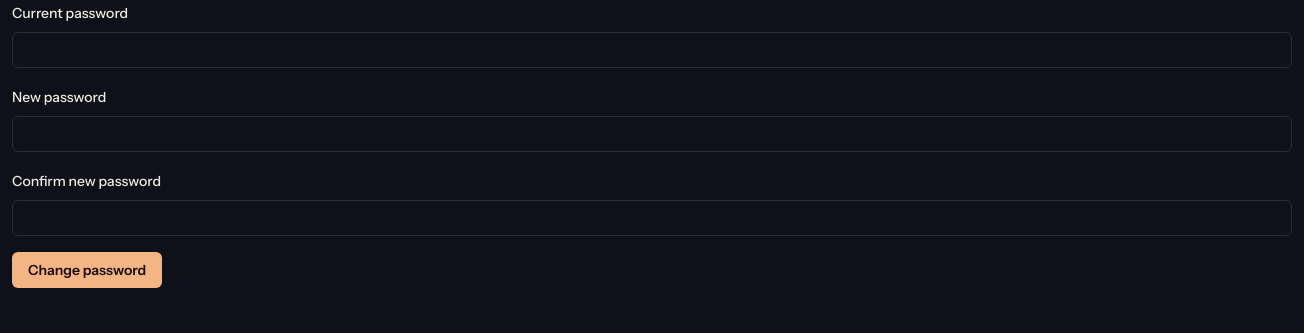
ChangePasswordForm › refuses to submit without the current password
The image size is (1304, 333).
Type "longenough1" into the password field labelled "New password". click: (652, 134)
box: [12,116,1292,152]
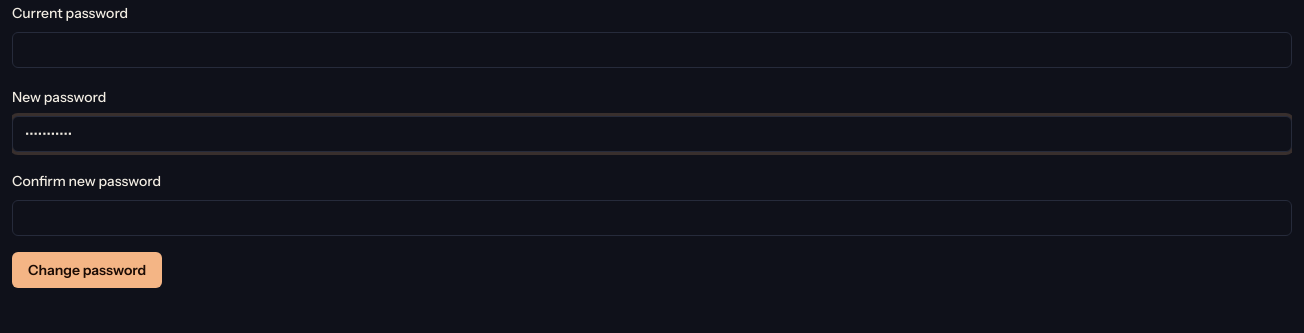
Type "longenough1" into the password field labelled "Confirm new password". click: (652, 218)
box: [12,200,1292,236]
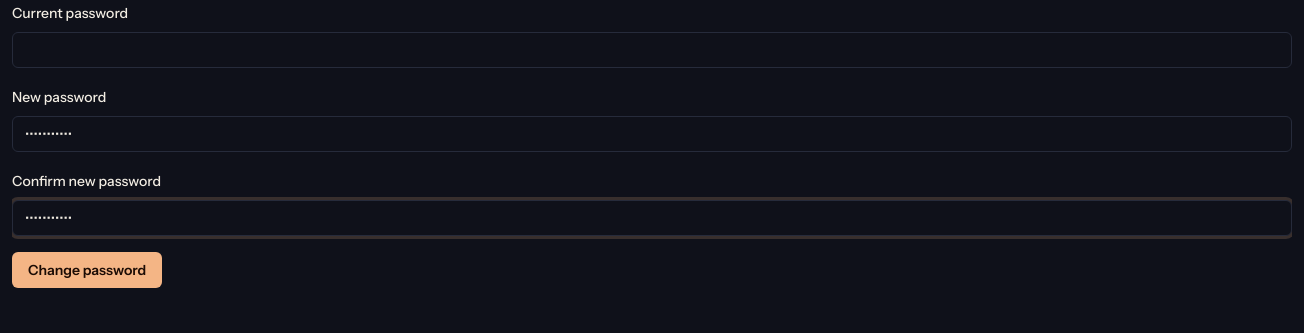
Click the button "Change password". click: (87, 270)
box: [12,252,162,288]
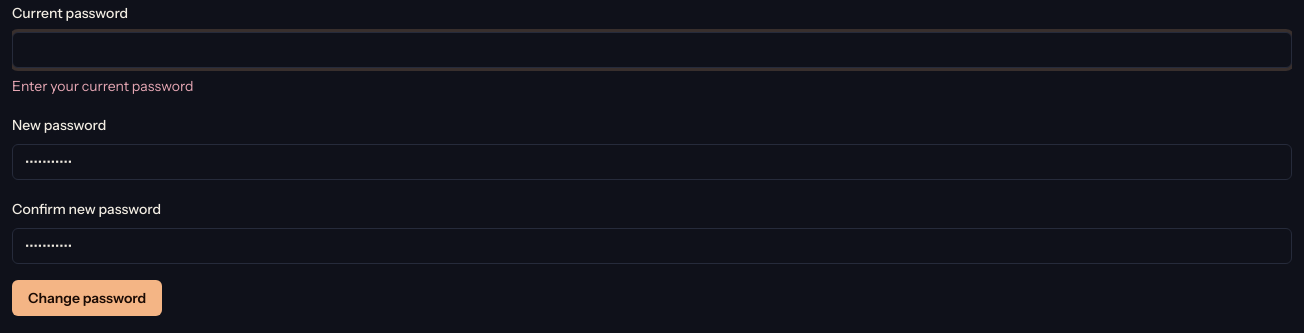
Now the text "Enter your current password" is shown, box [12,77,193,95]
